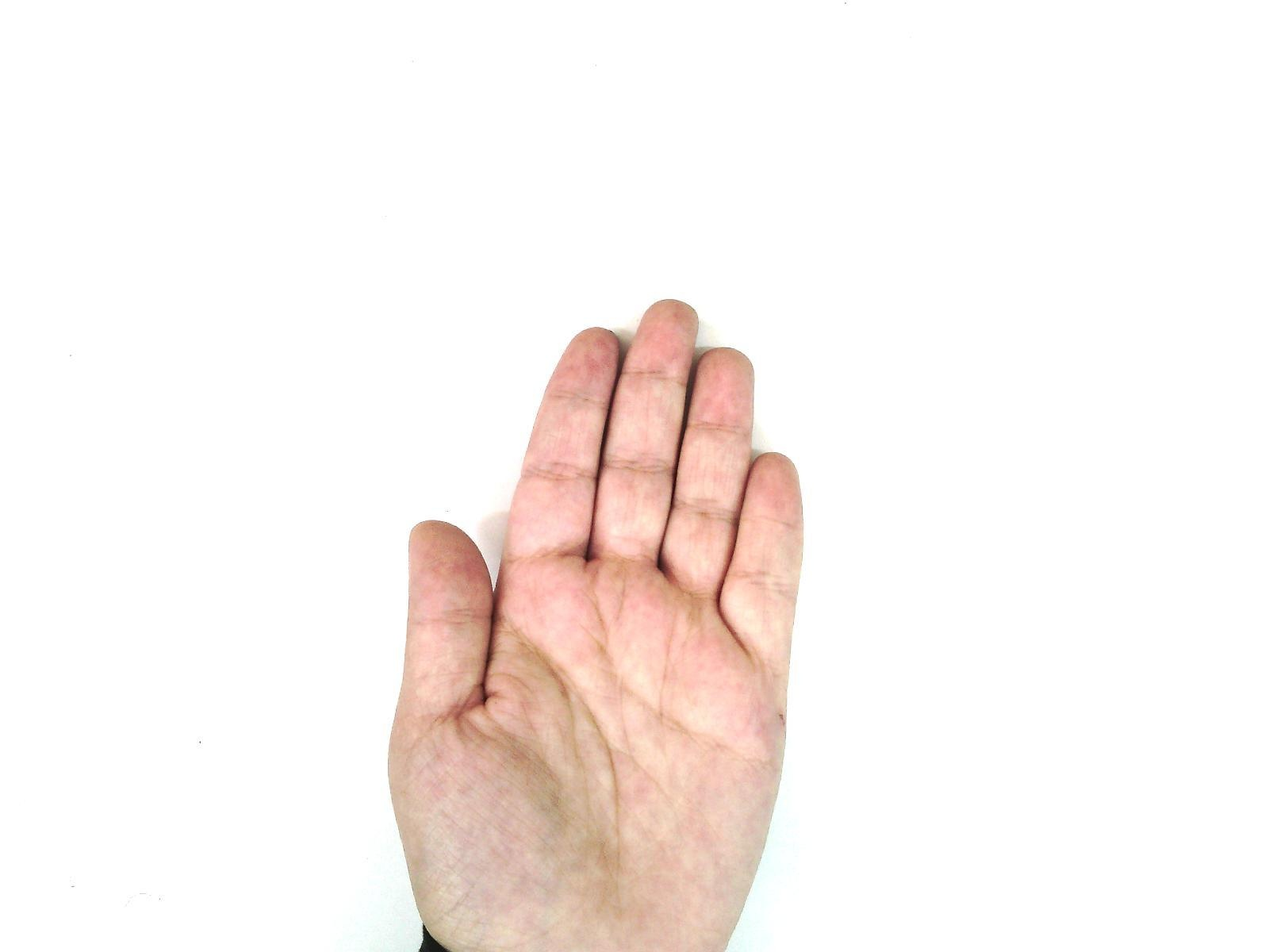open_palm: (385, 297, 807, 951)
